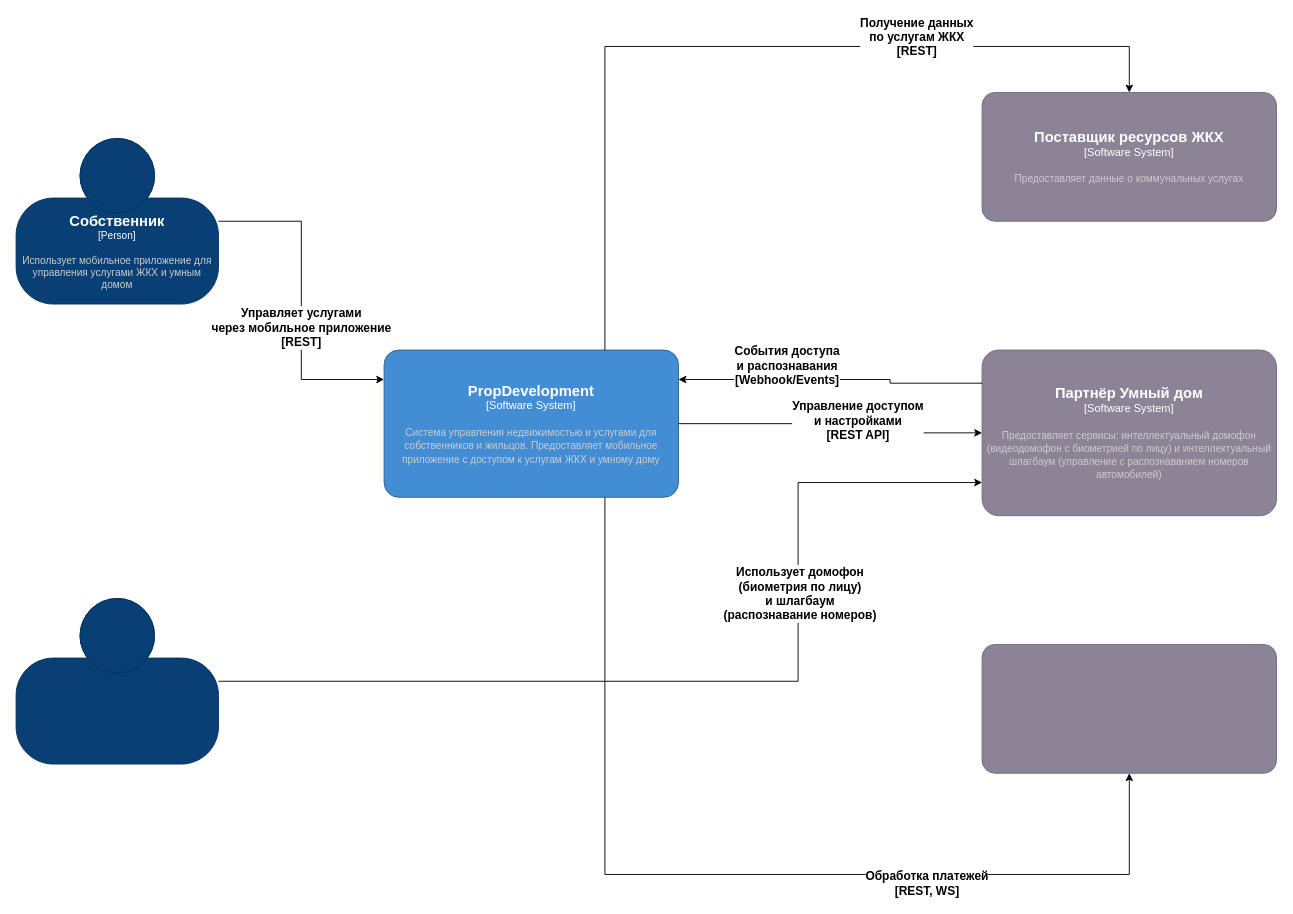
Image size: 1293x914. Some labels were removed from this diagram. Each missing label, with the centre of its shape:
Жилец [Person] Использует умный домофон и шлагбаум для доступа в дом: the point at 116,681
Платёжная система [Software System] Провайдер онлайн-платежей: the point at 1128,708
